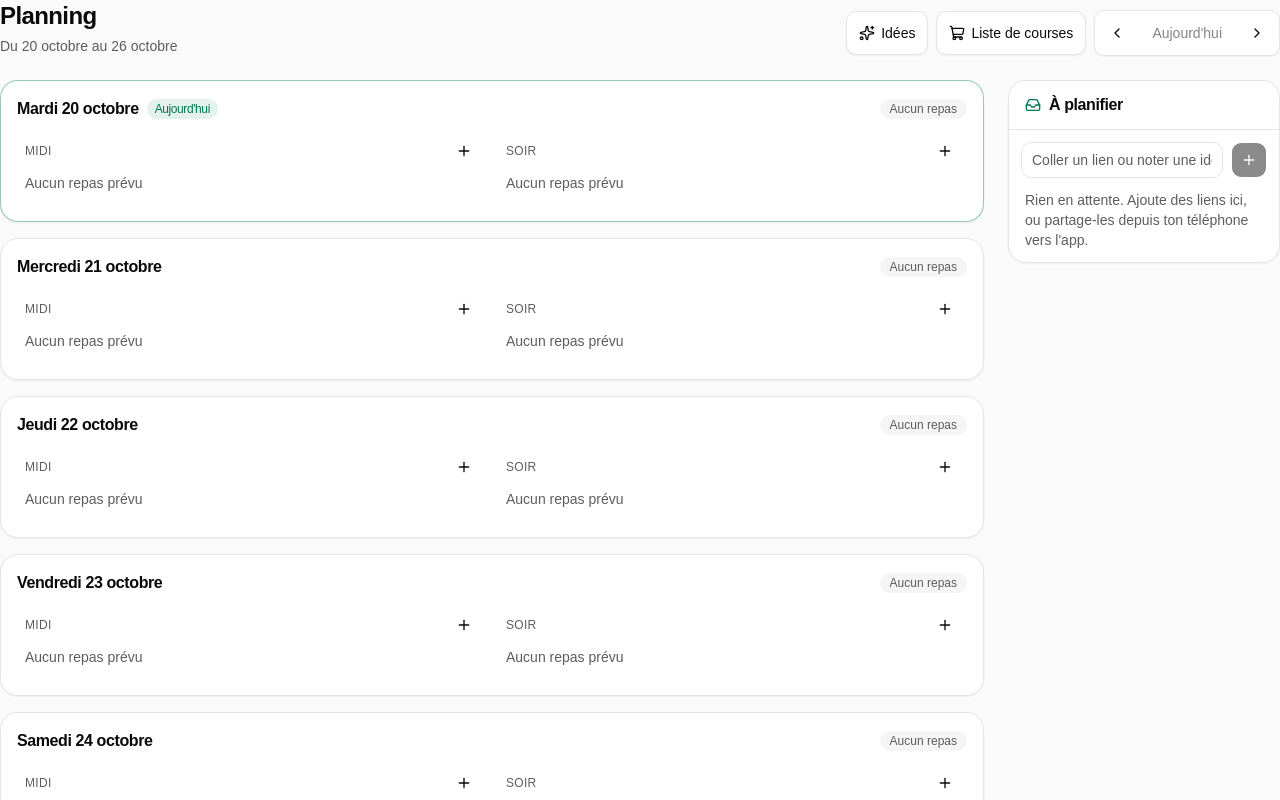
Test case: PlanningPage › exige au moins une personne
Click the button named "Ajouter un repas — Mardi 20 octobre, Midi".
click(464, 151)  # box 446,133 -> 482,169
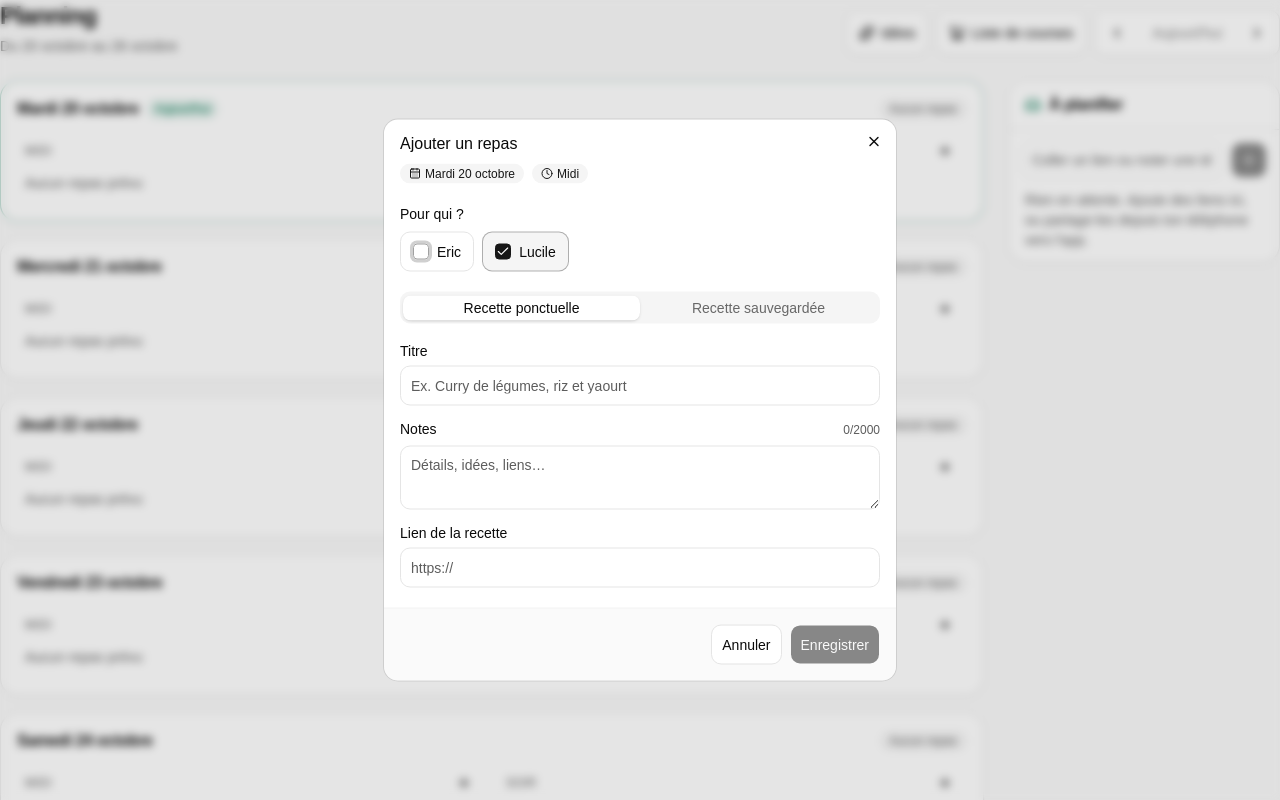
Type "Soupe" into the field labelled "Titre".
click(640, 386); type("Soupe")  # box 400,366 -> 880,406
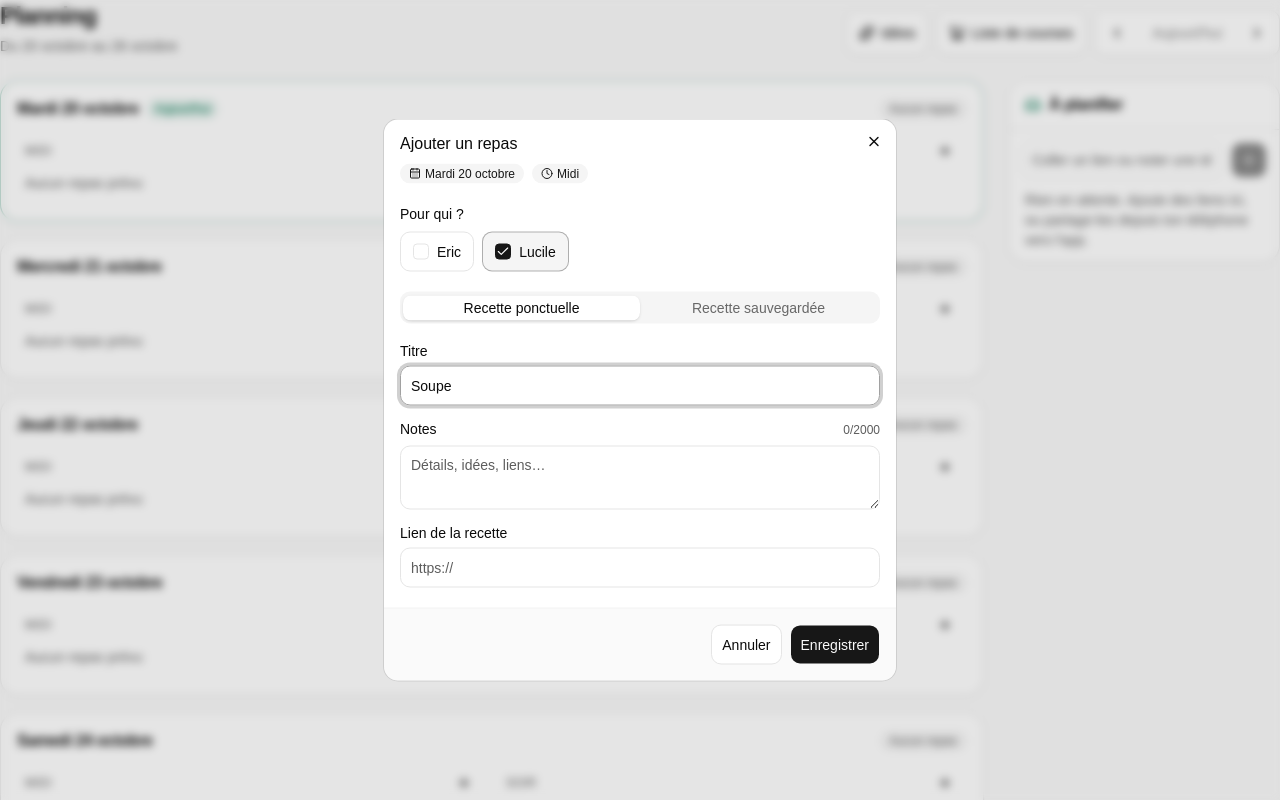
Click the checkbox named "Lucile" next to "Lucile".
click(503, 252)  # box 495,244 -> 511,260
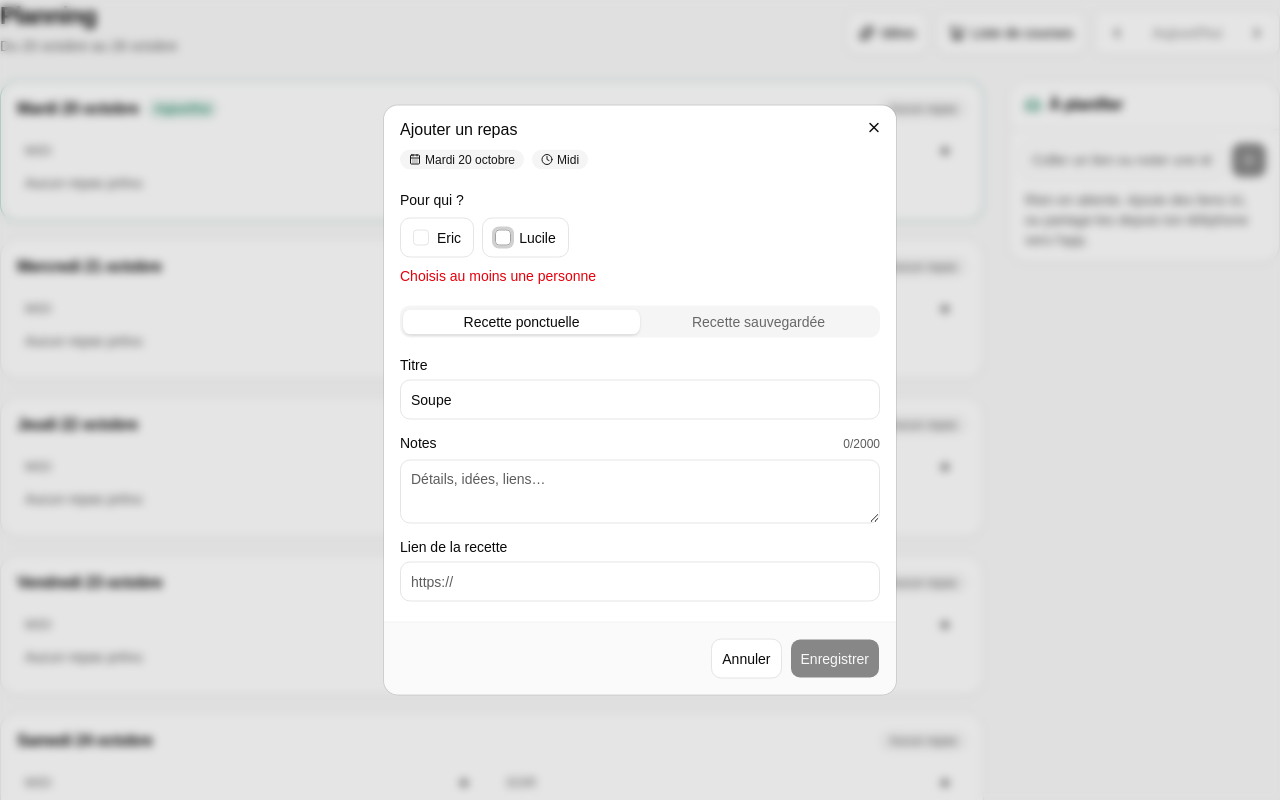
Now the text "Choisis au moins une personne" is shown, box 400,268 -> 596,284
Now the button "Enregistrer" is disabled, box 790,638 -> 880,678
